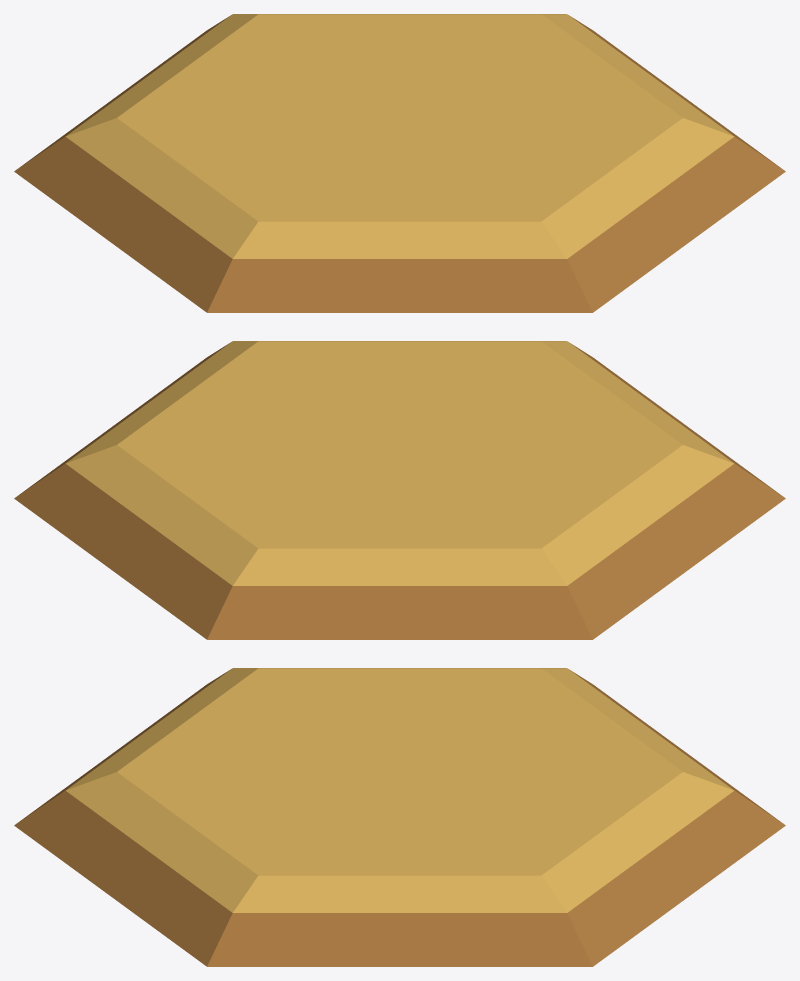
The model's file is pad.gltf.
3 renders of one model, top to bottom at view 1: azimuth 30°, elevation 25°; view 2: azimuth 150°, elevation 25°; view 3: azimuth 270°, elevation 25°, orthographic.
Parts seen in each view (by area): view 1: rim, plate; view 2: rim, plate; view 3: rim, plate.
Part boxes in pixels (<box>): rim: <box>65,14,734,258</box>; plate: <box>14,15,785,312</box>; rim: <box>65,341,734,585</box>; plate: <box>14,342,785,639</box>; rim: <box>65,668,734,912</box>; plate: <box>14,669,785,966</box>.
Bounding box in the file's own units: 2.6 × 0.23 × 3.
